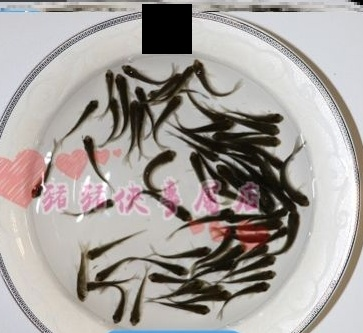fry: (136, 149, 180, 190), (79, 133, 108, 182), (82, 232, 130, 260), (30, 155, 59, 199), (224, 279, 273, 304), (190, 54, 220, 92), (282, 176, 315, 209), (184, 151, 208, 196), (157, 202, 196, 229), (142, 258, 191, 278), (176, 272, 214, 297), (169, 241, 212, 263), (239, 264, 284, 285), (211, 223, 238, 258), (191, 97, 227, 123), (143, 267, 184, 289), (130, 281, 148, 330), (211, 224, 239, 255), (74, 93, 100, 126), (72, 257, 90, 304), (76, 196, 116, 217), (120, 61, 155, 85), (134, 100, 148, 159), (114, 69, 131, 117), (157, 93, 183, 124), (193, 207, 234, 226), (247, 118, 283, 139), (108, 285, 125, 329), (284, 208, 300, 254), (243, 253, 280, 272), (192, 117, 233, 134), (125, 97, 137, 155), (104, 94, 120, 137), (176, 299, 212, 318), (179, 59, 199, 93), (91, 260, 124, 280), (205, 259, 239, 278), (255, 104, 287, 124), (133, 84, 150, 121), (212, 127, 249, 144), (254, 132, 287, 151), (217, 163, 241, 188), (274, 190, 298, 215), (246, 165, 270, 189), (235, 148, 265, 167), (252, 187, 273, 214), (243, 239, 271, 259), (86, 278, 128, 291), (213, 185, 240, 204), (252, 217, 285, 232), (102, 64, 117, 96), (162, 69, 182, 93), (263, 150, 287, 170), (224, 242, 250, 260), (230, 164, 250, 187), (200, 137, 228, 153), (267, 224, 293, 241), (208, 170, 227, 193), (195, 144, 219, 161), (202, 292, 233, 305), (242, 229, 272, 242), (197, 281, 226, 294)
